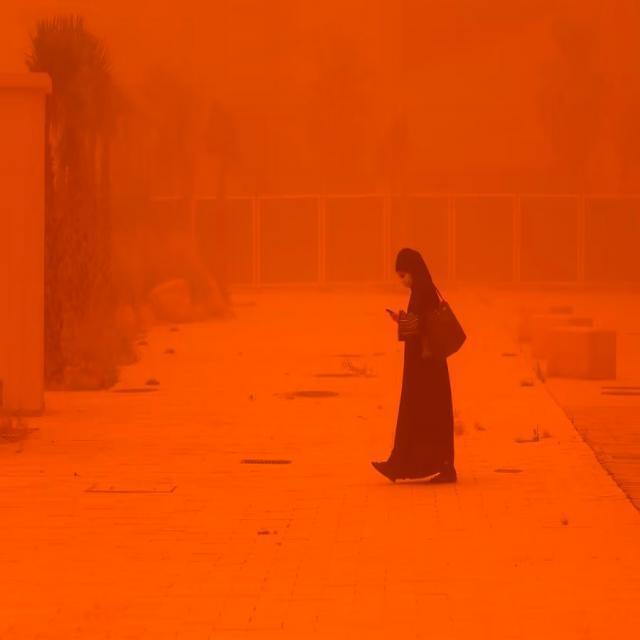Manhole: (236, 446, 295, 470)
